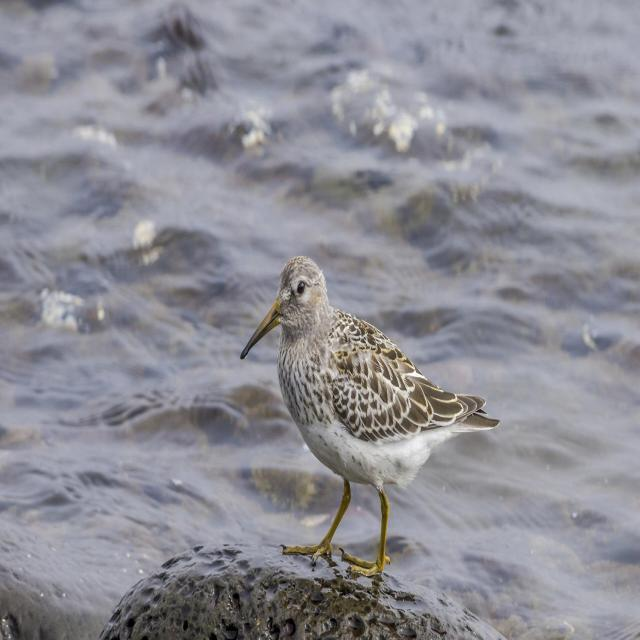Sandpiper: (244, 252, 497, 567)
